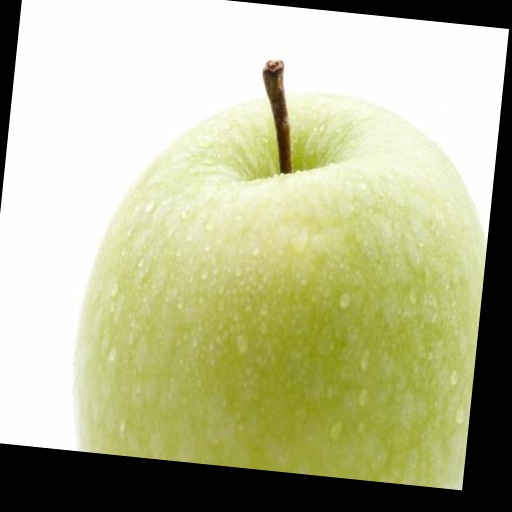fruit: (74, 94, 486, 489)
